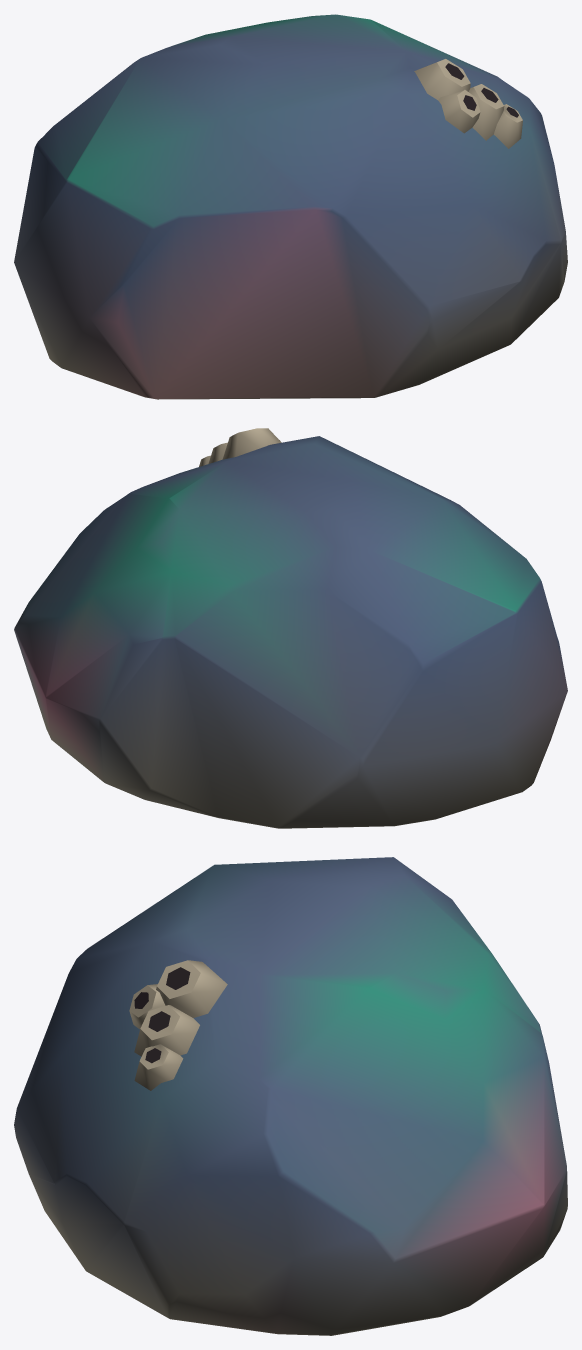
Rendered from sea_rock_b.glb.
The picture shows the model from 3 angles, top to bottom: view 1: azimuth 30°, elevation 25°; view 2: azimuth 150°, elevation 25°; view 3: azimuth 270°, elevation 25°; orthographic projection. The views are drawn at different scales.
Visible parts, largest first — view 1: sea_rock_b; view 2: sea_rock_b; view 3: sea_rock_b.
Boxes of the visible parts, box(x1,y1,x2,y2) form: sea_rock_b: box(14, 14, 567, 399); sea_rock_b: box(14, 428, 567, 828); sea_rock_b: box(14, 857, 567, 1335).
Bounding box in the file's own units: 0.6801 × 0.3416 × 0.5699.
